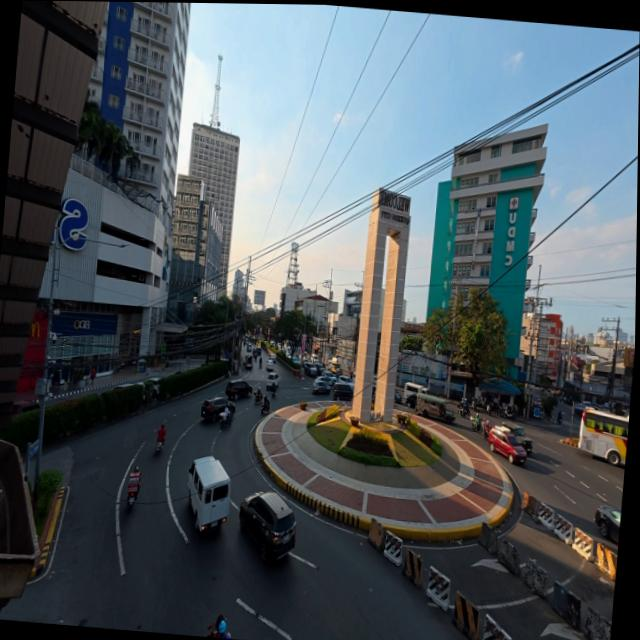Jeepneys: (405, 393, 454, 424), (500, 405, 515, 420), (328, 358, 340, 375), (244, 355, 252, 369)
bus: (578, 409, 628, 465)
car: (238, 491, 294, 561), (488, 426, 525, 464), (594, 505, 621, 543), (500, 422, 532, 454), (200, 397, 234, 419), (224, 380, 252, 399), (11, 400, 39, 414), (332, 381, 352, 400), (311, 381, 329, 395), (265, 372, 279, 389), (337, 375, 353, 388), (404, 393, 416, 409), (303, 363, 316, 376), (393, 391, 401, 404), (266, 359, 274, 371)
motorcycle: (127, 474, 139, 511), (219, 413, 232, 428), (127, 490, 134, 511), (206, 623, 217, 636), (260, 399, 269, 414), (502, 409, 514, 420), (154, 440, 163, 454), (458, 406, 469, 417), (482, 422, 489, 439), (253, 391, 261, 404), (473, 419, 481, 432), (556, 413, 562, 425), (270, 386, 275, 398), (258, 359, 261, 368)
vans: (188, 456, 229, 530), (403, 382, 426, 399)
